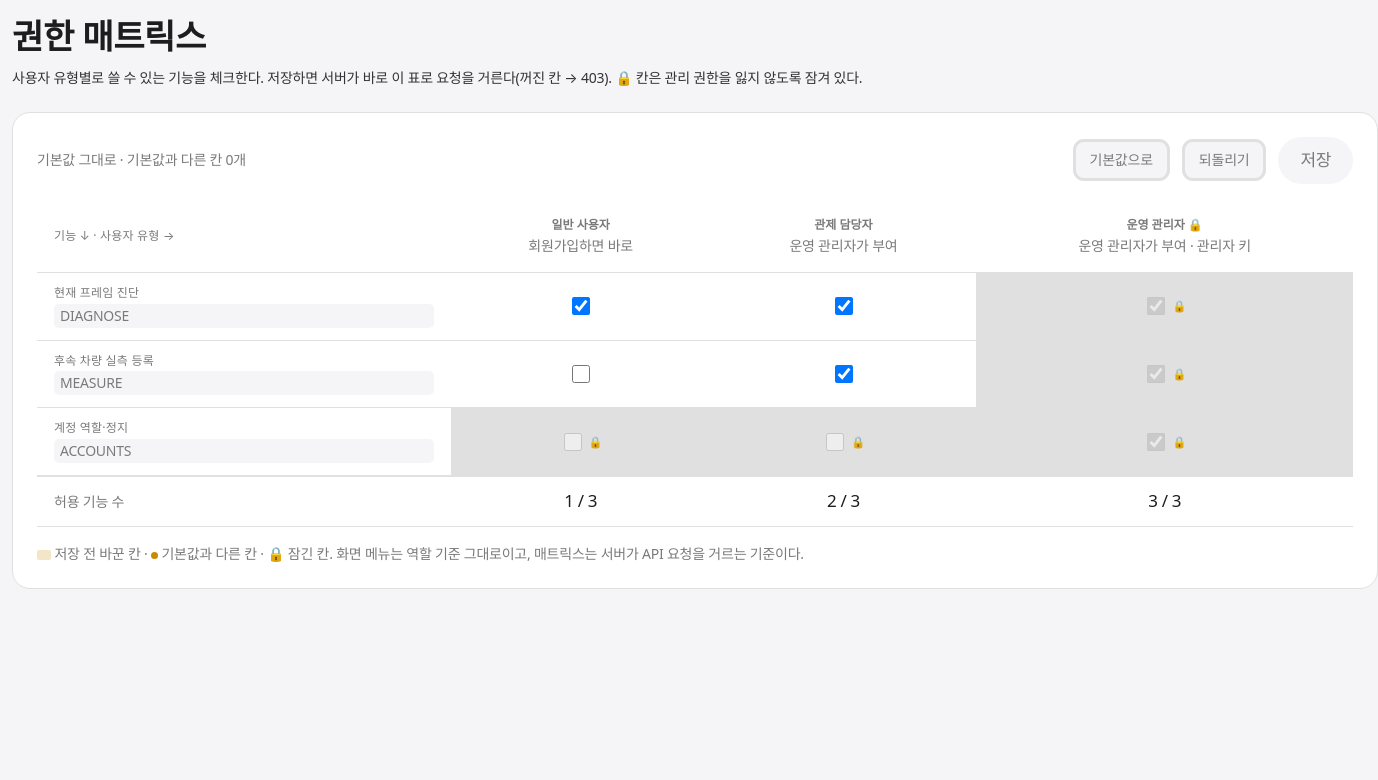
Test: 권한 매트릭스 › 열 머리를 누르면 그 역할의 잠기지 않은 칸을 모두 끄고 켠다, 되돌리기
Check: the checkbox named "관제 담당자 — 현재 프레임 진단" is shown, box [835,297,853,315]
Click the button titled "관제 담당자 열 전체 켜기/끄기" at (843,236), box [783,213,904,260]
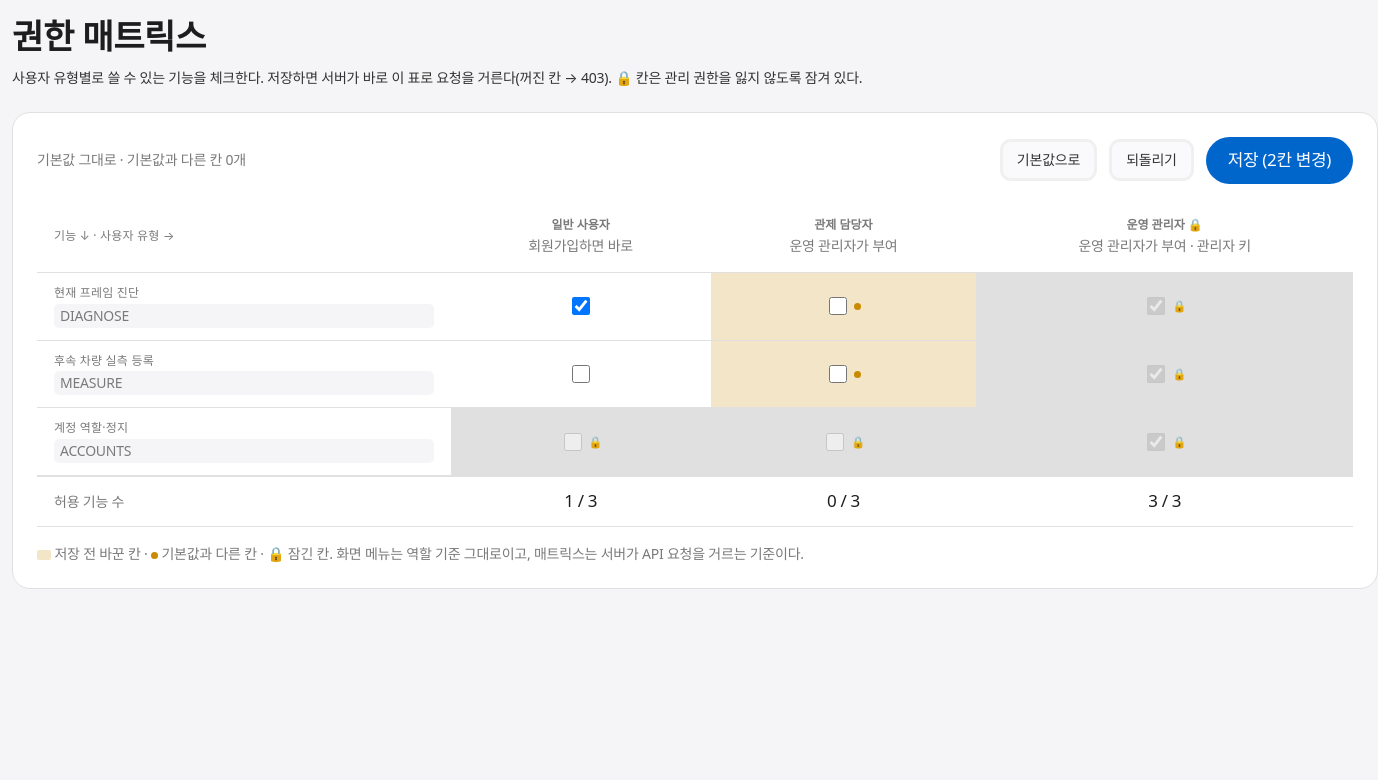
Check: the checkbox named "관제 담당자 — 현재 프레임 진단" is not checked, box [829,297,847,315]
Check: the checkbox named "관제 담당자 — 후속 차량 실측 등록" is not checked, box [829,365,847,383]
Check: the button "저장 (2칸 변경)" is shown, box [1206,137,1353,184]
Click the button "되돌리기" at (1151,160), box [1109,140,1194,182]
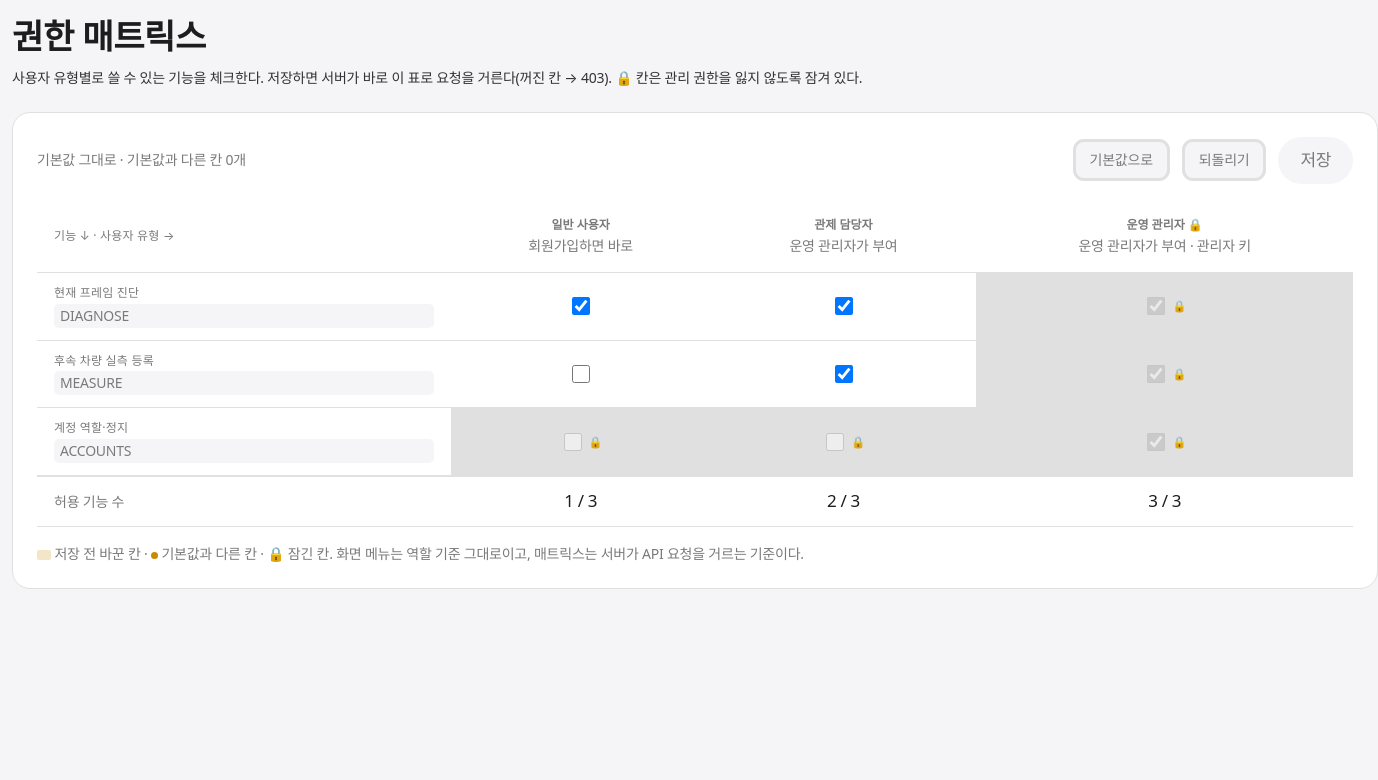
Check: the checkbox named "관제 담당자 — 현재 프레임 진단" is checked, box [835,297,853,315]
